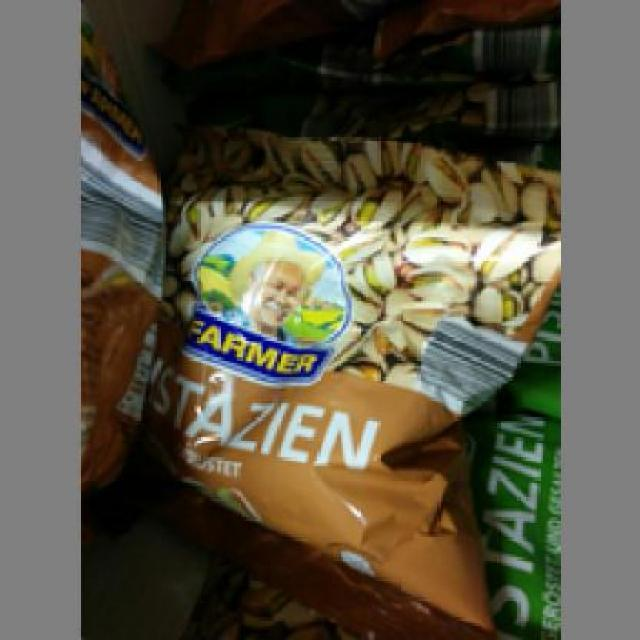Nuts: (140, 120, 557, 637)
